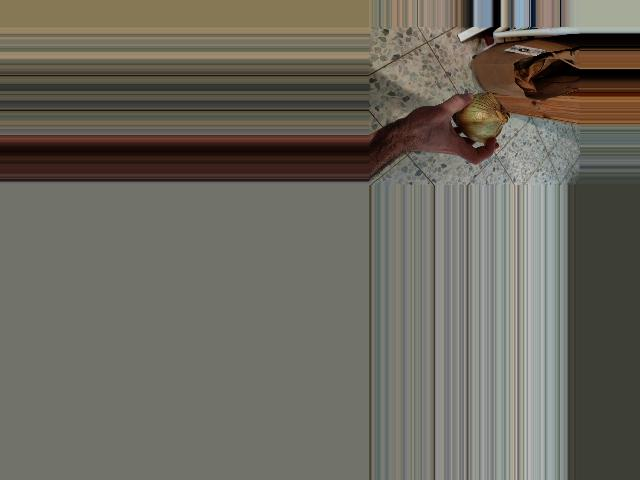onion: (448, 90, 511, 144)
